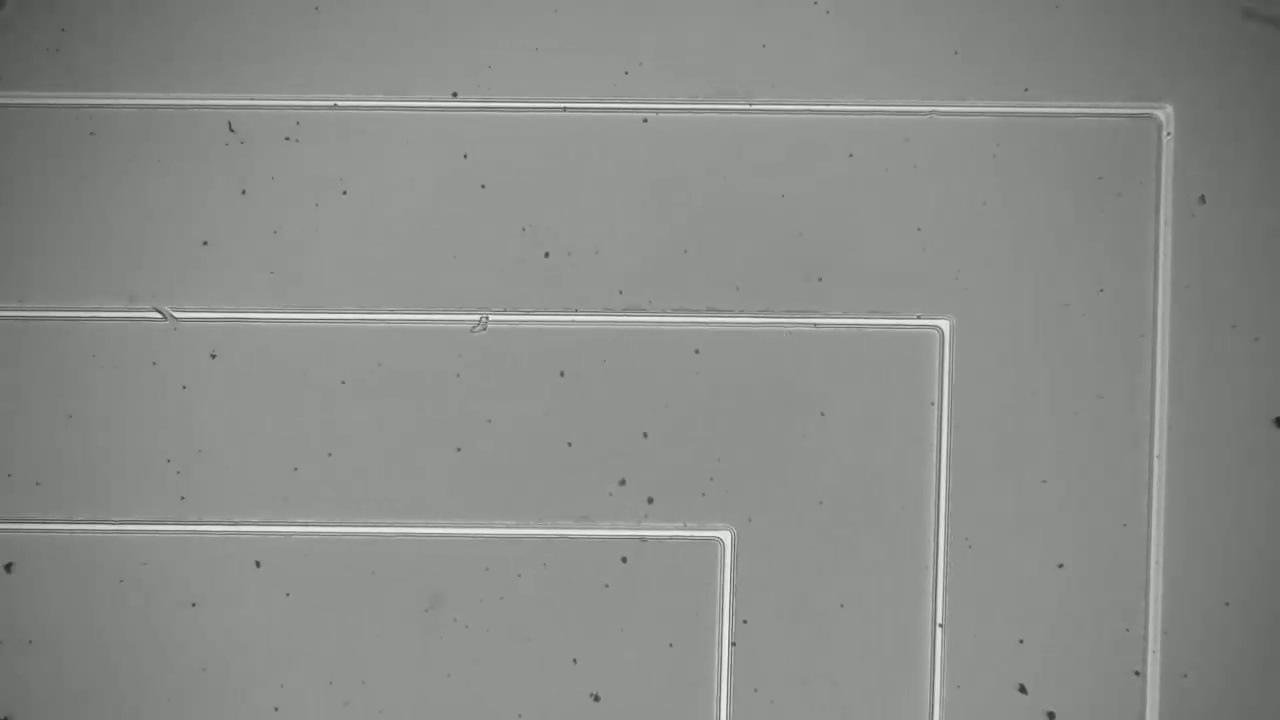open: (139, 293, 186, 337)
stains_enbedded: (458, 295, 495, 343)
